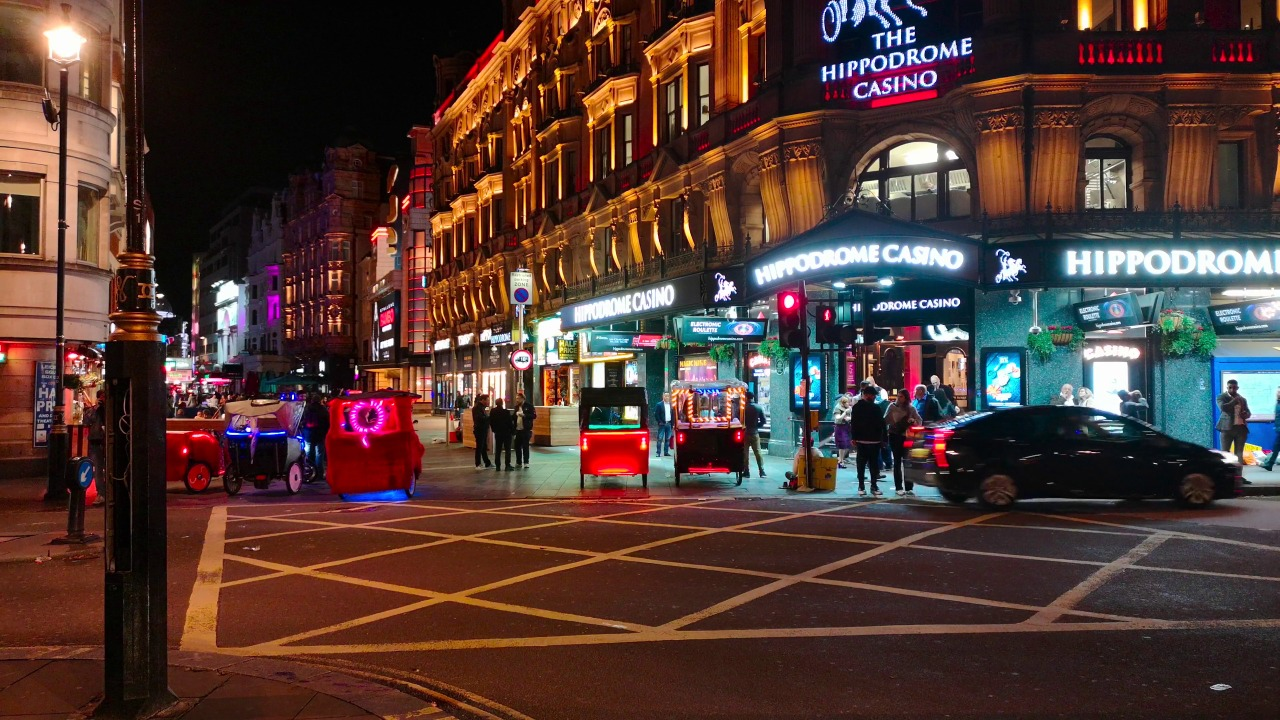car: (897, 407, 1242, 522), (332, 398, 430, 499), (226, 404, 325, 494), (675, 384, 752, 487), (576, 388, 654, 484), (163, 423, 229, 492)
person: (887, 391, 921, 497), (73, 383, 107, 488), (855, 389, 883, 503), (736, 393, 771, 477), (1216, 374, 1248, 457), (783, 432, 820, 496), (1112, 387, 1156, 437), (488, 399, 515, 474), (512, 392, 534, 477), (828, 391, 850, 468), (473, 396, 492, 472), (656, 388, 670, 459), (1051, 375, 1075, 406), (927, 366, 944, 400), (933, 392, 954, 417), (910, 382, 928, 410), (1073, 388, 1091, 415), (450, 389, 464, 417), (863, 370, 881, 387), (476, 390, 482, 399)
